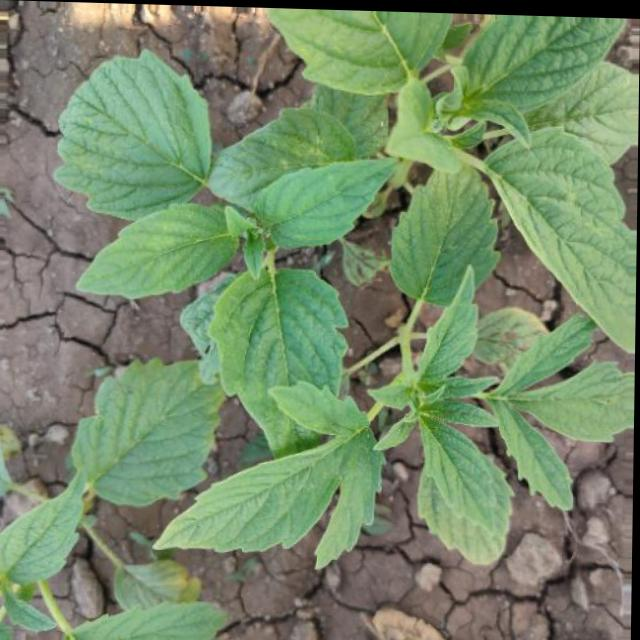crop: (38, 11, 640, 620)
